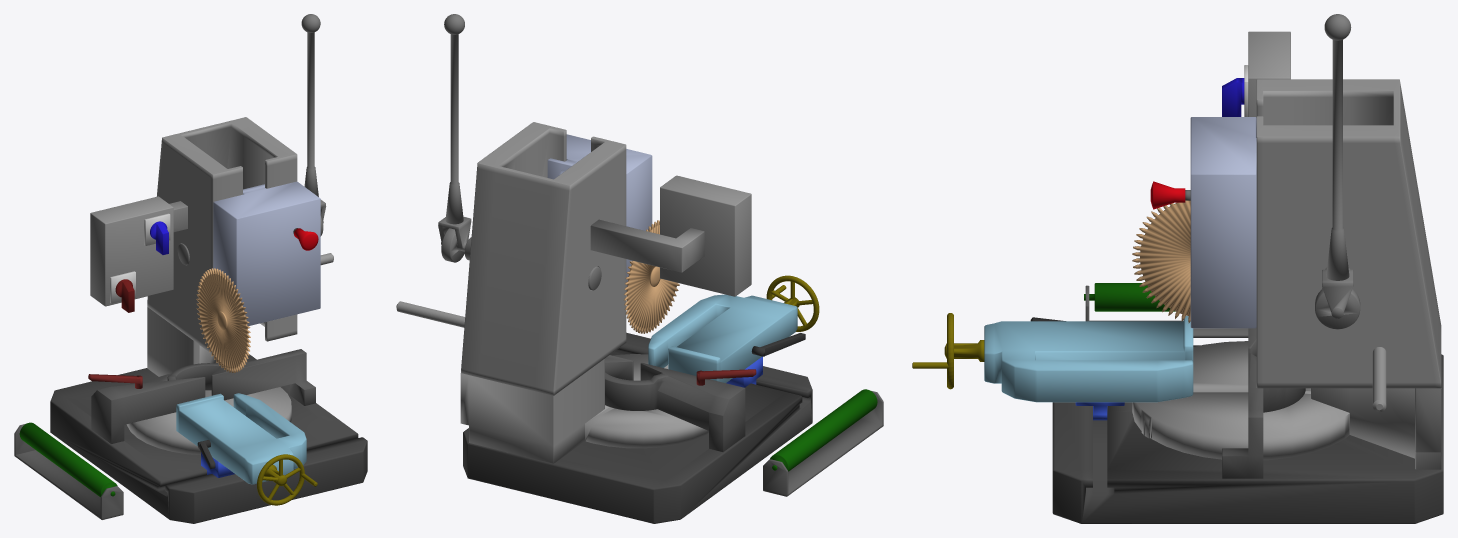
The model's file is Handlevercircularsaw.fbx.
3 renders of one model, left to right at view 1: azimuth 30°, elevation 25°; view 2: azimuth 150°, elevation 25°; view 3: azimuth 270°, elevation 25°, orthographic. The views are drawn at different scales.
Visible parts, largest first — view 1: Saw_Plattform_LP, Baseplate_LP, Sawblade_mount_LP, Depth_Fence_LP, Vice_LP, Saw_blade_LP, Coil_mount__LP, Coil_LP, Lever_LP, Crank_Vice_LP, Switch2__LP, Switch_LP (+3 smaller); view 2: Saw_Plattform_LP, Baseplate_LP, Vice_LP, Depth_Fence_LP, Lever_LP, Coil_mount__LP, Sawblade_mount_LP, Saw_blade_LP, Coil_LP, Crank_Vice_LP, Handle2_LP; view 3: Saw_Plattform_LP, Baseplate_LP, Vice_LP, Sawblade_mount_LP, Lever_LP, Saw_blade_LP, Depth_Fence_LP, Coil_LP, Crank_Vice_LP, Coil_mount__LP, Switch_LP, Switch_Emergenc_LP.
Part boxes in pixels (x1,y1,x2,y2): Saw_Plattform_LP: (90, 117, 333, 455); Baseplate_LP: (50, 354, 367, 523); Sawblade_mount_LP: (213, 181, 320, 325); Depth_Fence_LP: (91, 349, 315, 443); Vice_LP: (176, 393, 306, 484); Saw_blade_LP: (196, 268, 250, 372); Coil_mount__LP: (14, 424, 123, 519); Coil_LP: (19, 422, 117, 496); Lever_LP: (177, 14, 326, 265); Crank_Vice_LP: (257, 454, 317, 505); Switch2__LP: (115, 279, 134, 312); Switch_LP: (150, 221, 168, 254); Saw_Plattform_LP: (396, 122, 751, 463); Baseplate_LP: (463, 332, 812, 523); Vice_LP: (648, 294, 797, 382); Depth_Fence_LP: (605, 355, 745, 451); Lever_LP: (438, 14, 601, 290); Coil_mount__LP: (763, 391, 883, 496); Sawblade_mount_LP: (547, 134, 652, 291); Saw_blade_LP: (624, 220, 679, 333); Coil_LP: (770, 389, 877, 471); Crank_Vice_LP: (766, 275, 819, 331); Handle2_LP: (696, 369, 756, 385); Saw_Plattform_LP: (1132, 31, 1441, 469); Baseplate_LP: (1052, 345, 1443, 523); Vice_LP: (984, 316, 1193, 402); Sawblade_mount_LP: (1190, 117, 1256, 328); Lever_LP: (1315, 14, 1360, 329); Saw_blade_LP: (1132, 200, 1190, 323); Depth_Fence_LP: (1222, 327, 1305, 478); Coil_LP: (1084, 283, 1175, 311); Crank_Vice_LP: (912, 313, 984, 389); Coil_mount__LP: (1085, 285, 1248, 337); Switch_LP: (1222, 78, 1244, 116); Switch_Emergenc_LP: (1150, 181, 1185, 209).
Size of the model in its own units: 93.42 by 95.34 by 103.
